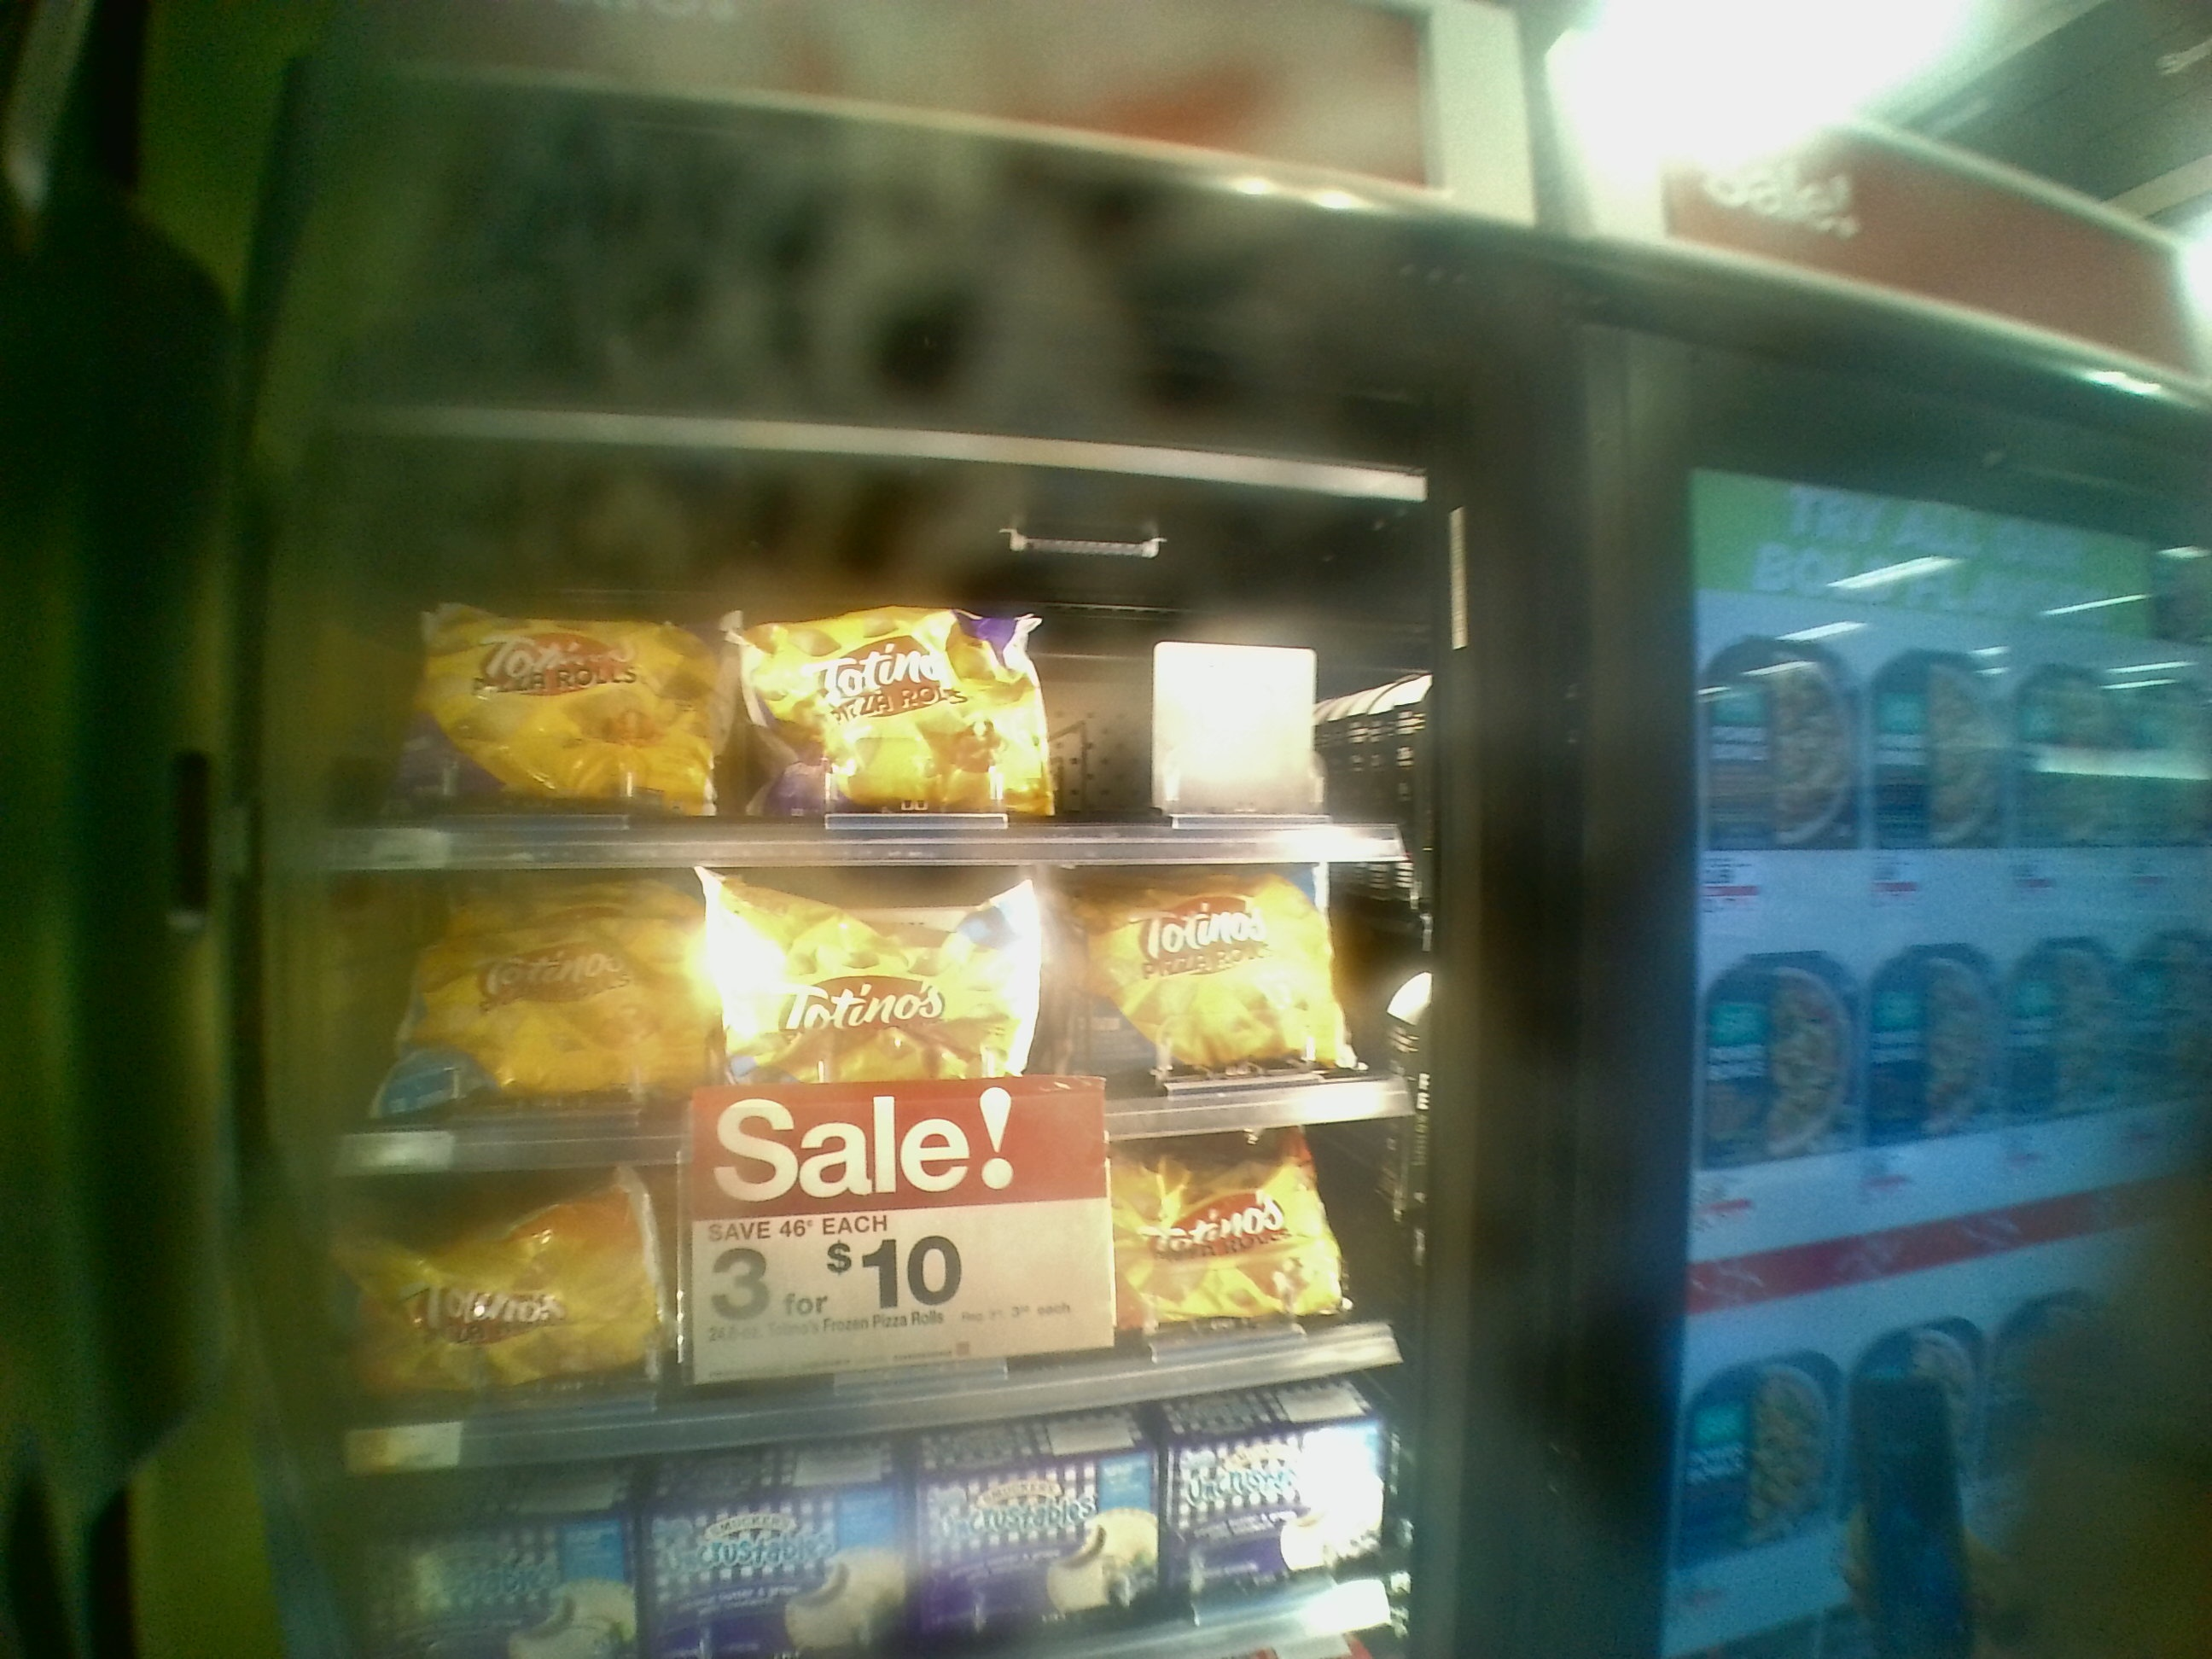shelf: (289, 471, 1411, 840), (298, 838, 1413, 1107), (308, 1133, 1400, 1363)
